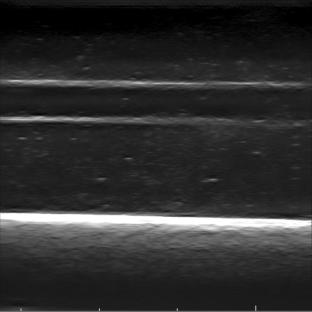vessel: (5, 79, 290, 128)
